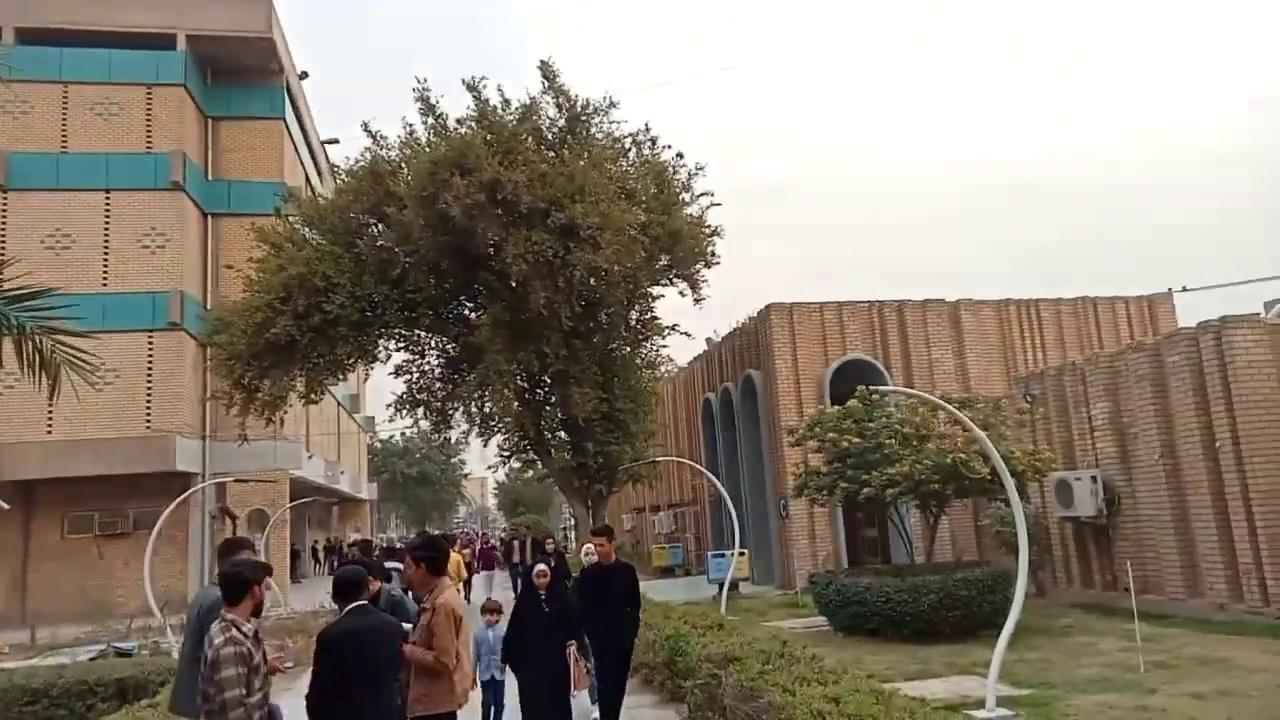person: (168, 536, 273, 719), (304, 564, 409, 719), (500, 561, 590, 719), (398, 532, 474, 719), (570, 523, 641, 719), (471, 598, 508, 719), (289, 541, 302, 583)
tree: (203, 54, 725, 555), (783, 382, 1055, 568), (0, 252, 117, 414), (366, 428, 473, 535), (492, 468, 556, 524), (507, 512, 549, 536)
